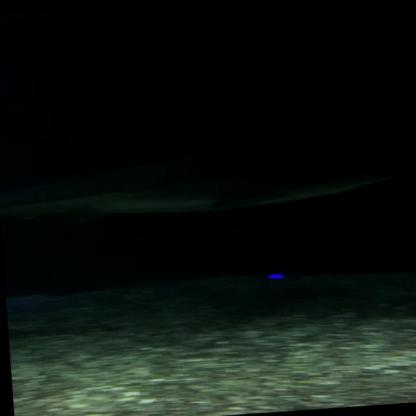shark: (0, 103, 402, 228)
